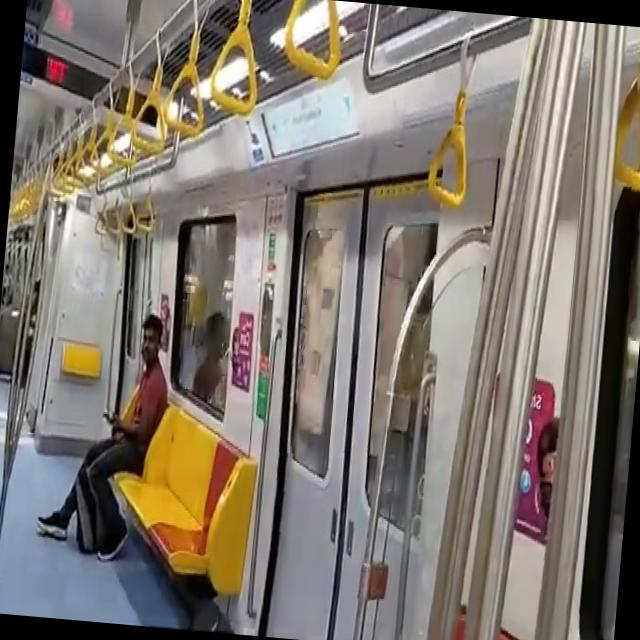bus-door: (266, 182, 439, 638), (365, 291, 431, 640)
